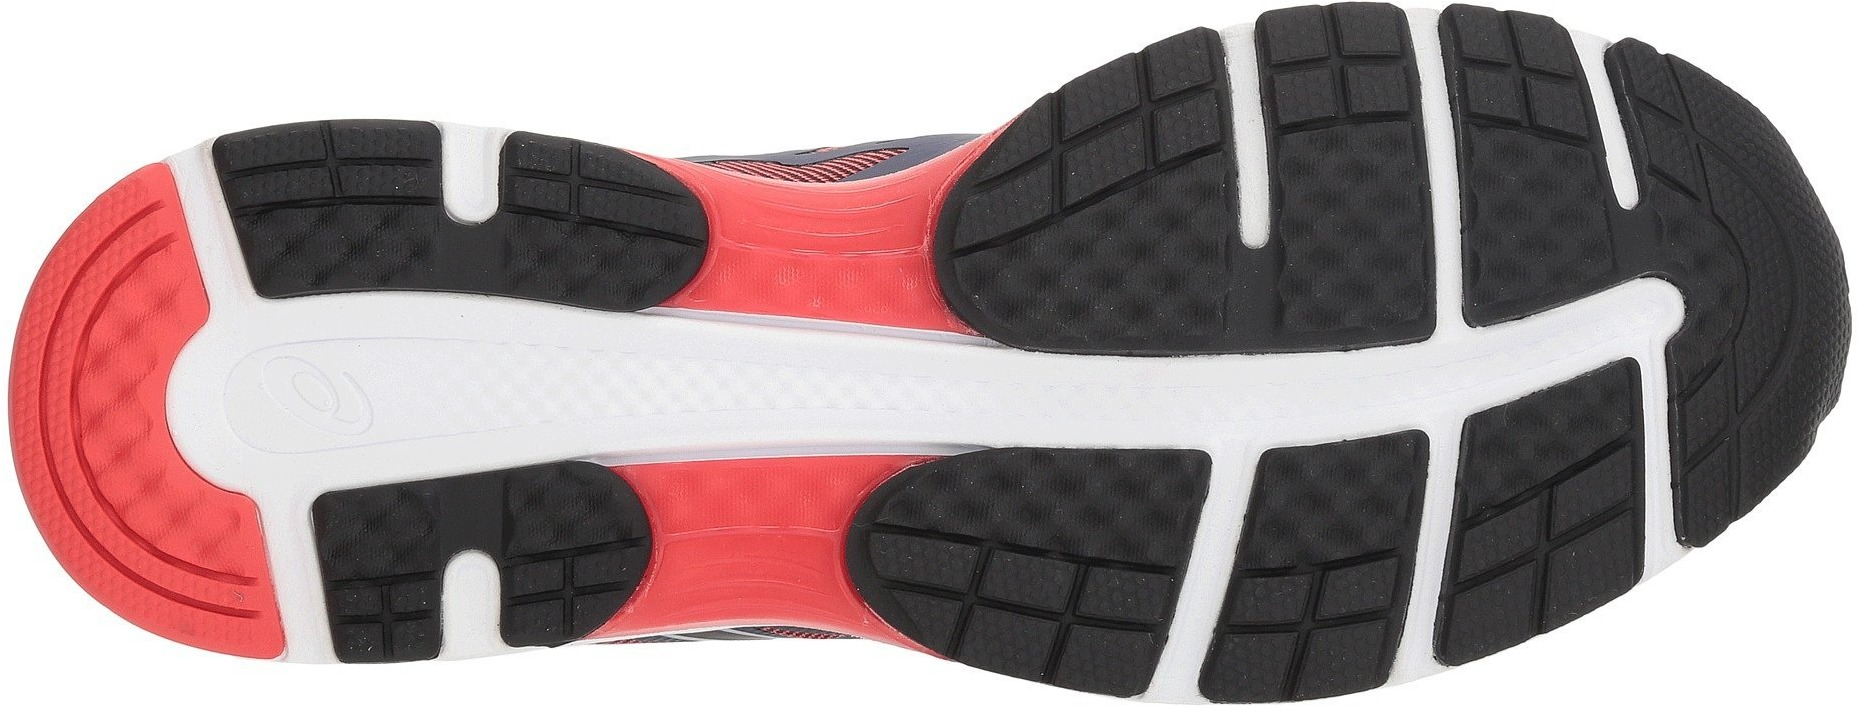exclude: (615, 1, 1037, 193), (578, 617, 944, 711)
quad: (1226, 117, 1465, 351), (1199, 499, 1414, 699)
ribbon: (328, 255, 626, 518), (641, 261, 920, 522), (928, 264, 1203, 523), (83, 266, 331, 526), (1472, 232, 1697, 460)
